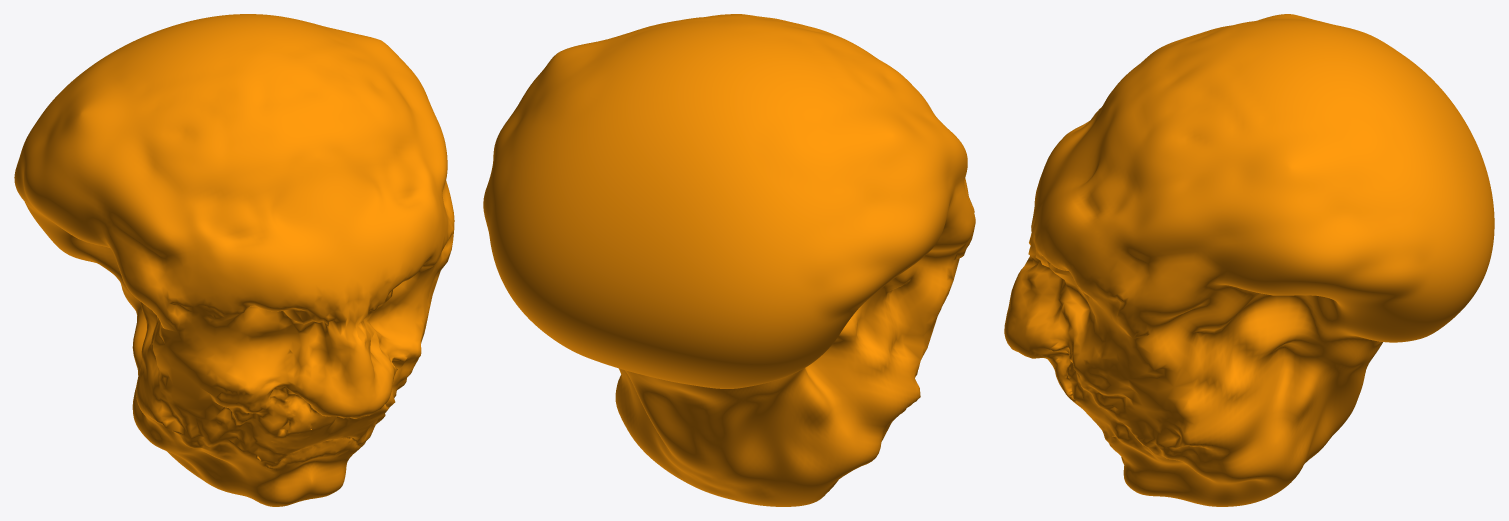
File: head.glb
3 views of the same model, side by side, from view 1: azimuth 30°, elevation 25°; view 2: azimuth 150°, elevation 25°; view 3: azimuth 270°, elevation 25° (orthographic). The views are drawn at different scales.
Visible parts, largest first — view 1: Quad_Sphere; view 2: Quad_Sphere; view 3: Quad_Sphere.
Part boxes in pixels (x1=…): Quad_Sphere: x1=14, y1=14, x2=454, y2=506; Quad_Sphere: x1=483, y1=14, x2=975, y2=506; Quad_Sphere: x1=1004, y1=14, x2=1494, y2=506.
Bounding box in the file's own units: 2.29 × 2.46 × 2.45.
